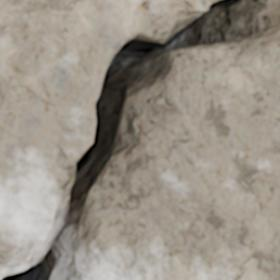broken_brick: (0, 0, 213, 277), (78, 35, 279, 279)
crack: (0, 0, 279, 279)
